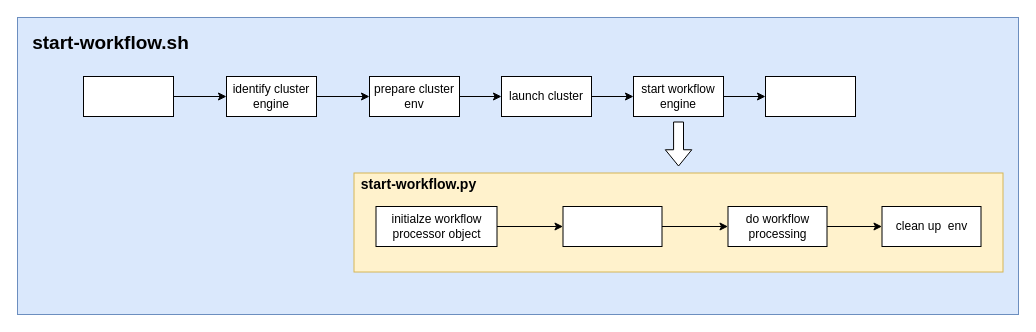
The diagram is 1036 pixels wide and 332 high, and some of its shapes have lost their labels. Here are the shapes that lost their labels. From the top down, the box of each, then its label:
(82, 76, 174, 116): parse workflow yaml file
(764, 76, 856, 116): shut down cluster
(562, 206, 662, 246): connect to cluster
